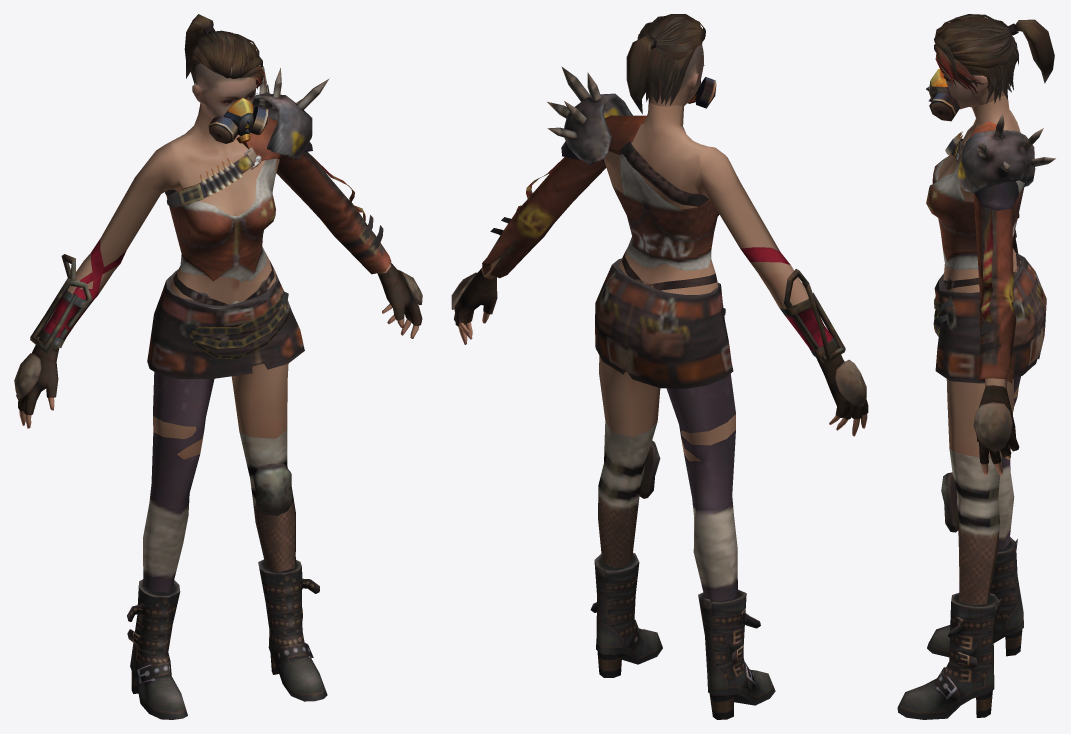
The model's file is doomsday madnessF.FBX.
The picture shows the model from 3 angles, left to right: view 1: azimuth 30°, elevation 25°; view 2: azimuth 150°, elevation 25°; view 3: azimuth 270°, elevation 25°; orthographic projection. The views are drawn at different scales.
Visible parts, largest first — view 1: Mesh_0008_rip; view 2: Mesh_0008_rip; view 3: Mesh_0008_rip.
Boxes of the visible parts, x1,y1,x2,y2 form: Mesh_0008_rip: [14, 14, 422, 719]; Mesh_0008_rip: [451, 14, 868, 719]; Mesh_0008_rip: [897, 14, 1055, 719].
Bounding box in the file's own units: 1.2 × 1.85 × 0.3993.
1 material, 1 textured.
